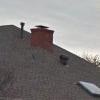Chimney: (16, 18, 59, 51)
